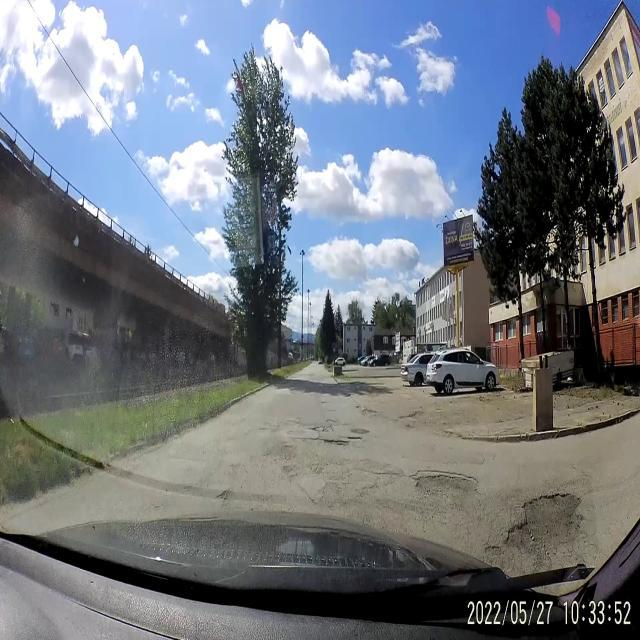Manhole: (352, 426, 371, 436), (303, 421, 317, 432)
Pothole: (503, 487, 582, 554), (410, 466, 477, 501), (322, 436, 362, 451)
